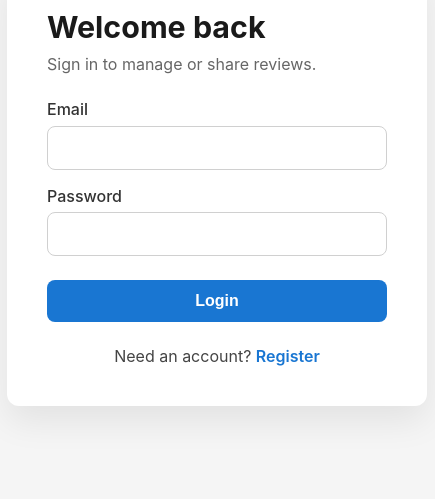
Scenario: LoginPage › shows an error message when login fails
The width and height of the screenshot is (435, 499).
Type "user@example.com" into the field labelled "Email". click: point(217, 148)
box: [47,126,387,170]
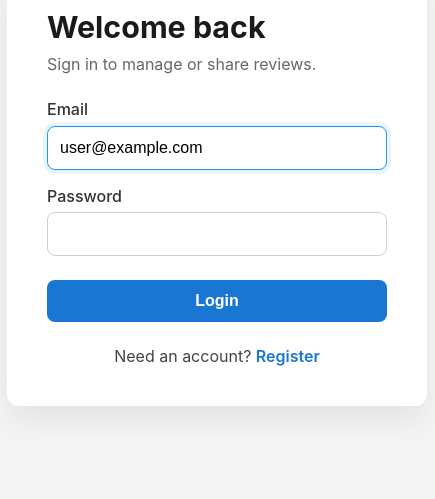
Type "Password123!" into the password field labelled "Password". click: point(217, 234)
box: [47,212,387,256]
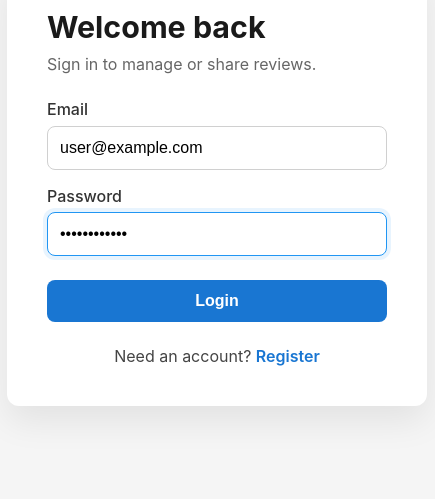
Click the button "Login". click: point(217, 301)
box: [47,280,387,322]
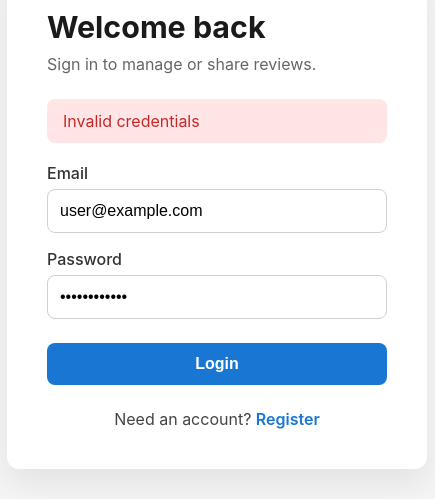
Expected: the text "Invalid credentials" is shown, [47,99,387,143]
